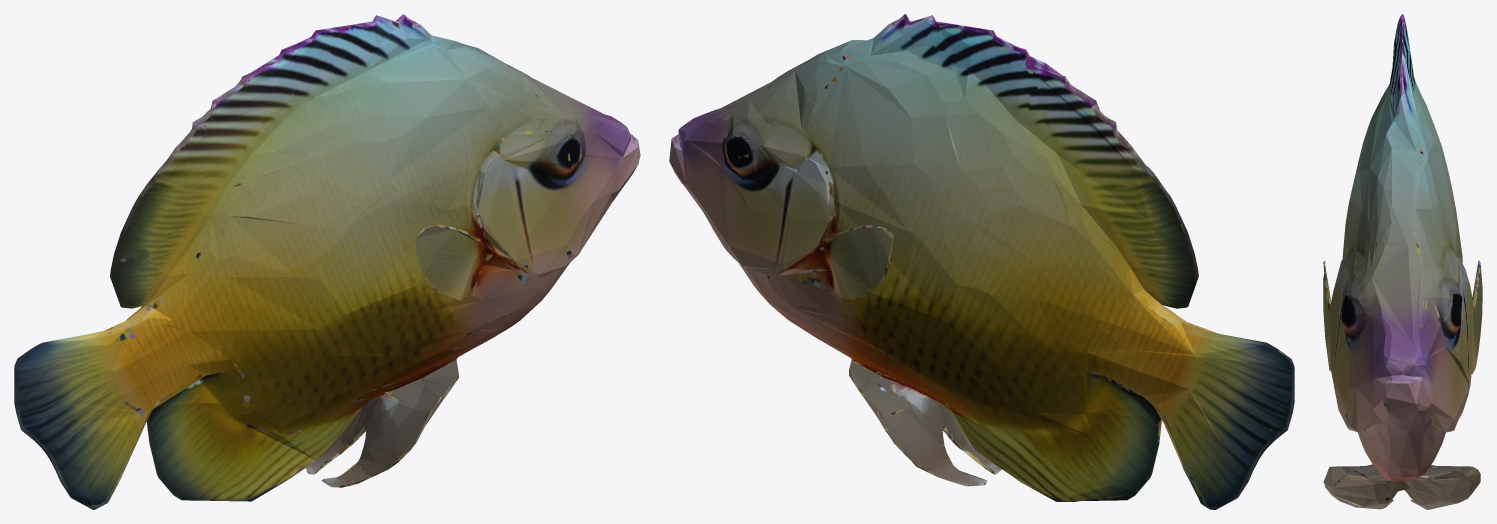
File: fish_0070_smpl23_resized.glb
3 views of the same model, side by side, from view 1: azimuth 30°, elevation 25°; view 2: azimuth 150°, elevation 25°; view 3: azimuth 270°, elevation 25° (orthographic). The views are drawn at different scales.
Visible parts, largest first — view 1: world; view 2: world; view 3: world.
Part boxes in pixels (<box>): world: <box>14,14,640,509</box>; world: <box>669,14,1294,509</box>; world: <box>1323,14,1482,509</box>.
Bounding box in the file's own units: 1.99 × 1.4 × 0.4147.
1 material, 1 textured.
